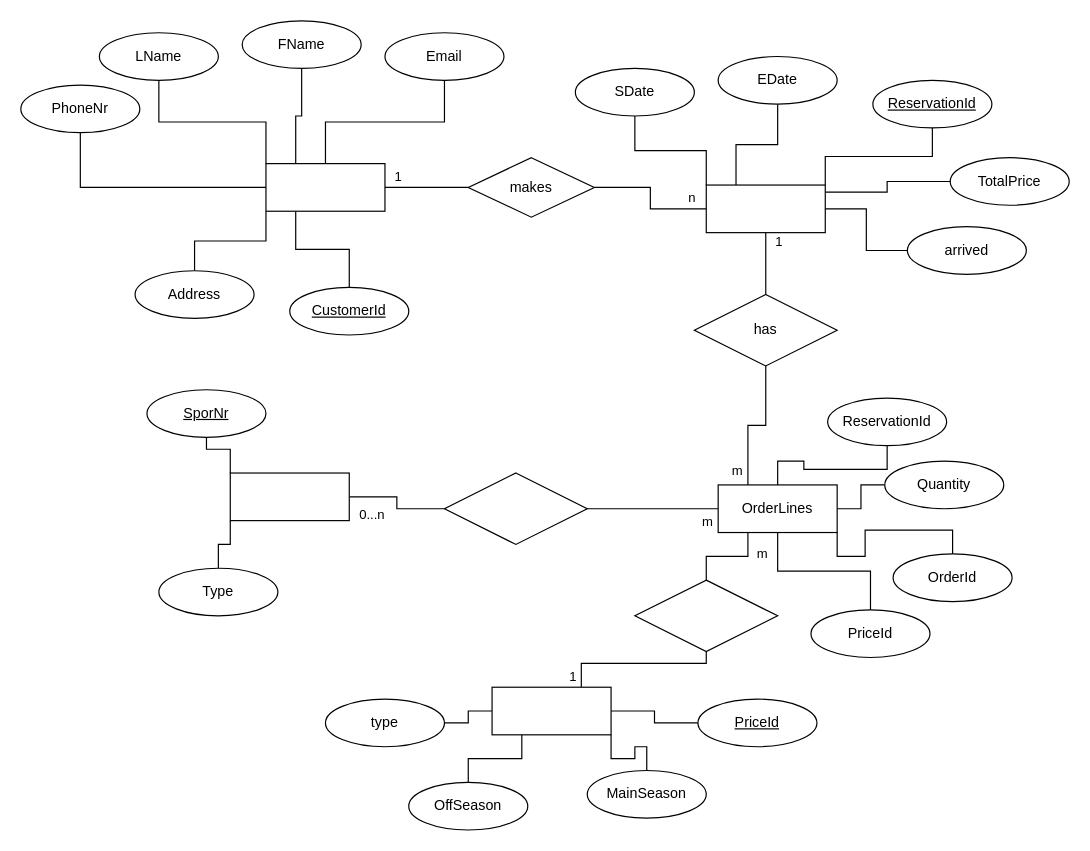
Some shapes in this 1090 by 851 pixel diagram are drawn without their labels. Here are the shapes that lost their labels. From the top down, the centre of each, then its label:
At (x=325, y=186): "Customer".
At (x=765, y=208): "Reservation".
At (x=289, y=496): "Spot".
At (x=515, y=508): "Reserves".
At (x=706, y=615): "Uses".
At (x=551, y=710): "PriceList".
